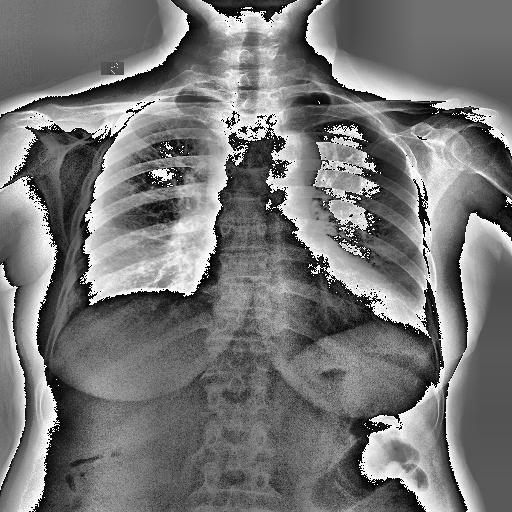0- Aortic enlargement: (260, 130, 322, 217), (268, 128, 322, 186), (274, 130, 321, 176)
3- Cardiomegaly: (190, 257, 414, 324), (195, 254, 419, 316), (194, 263, 396, 328)
